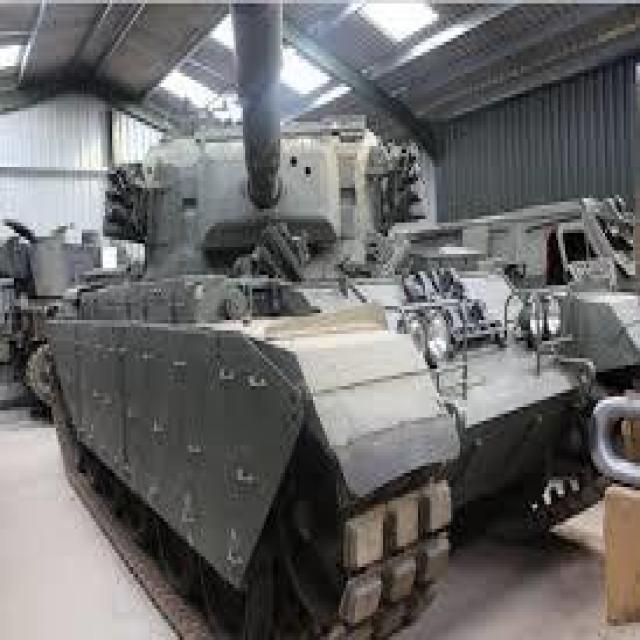MIL_MBT: (53, 73, 599, 612)
